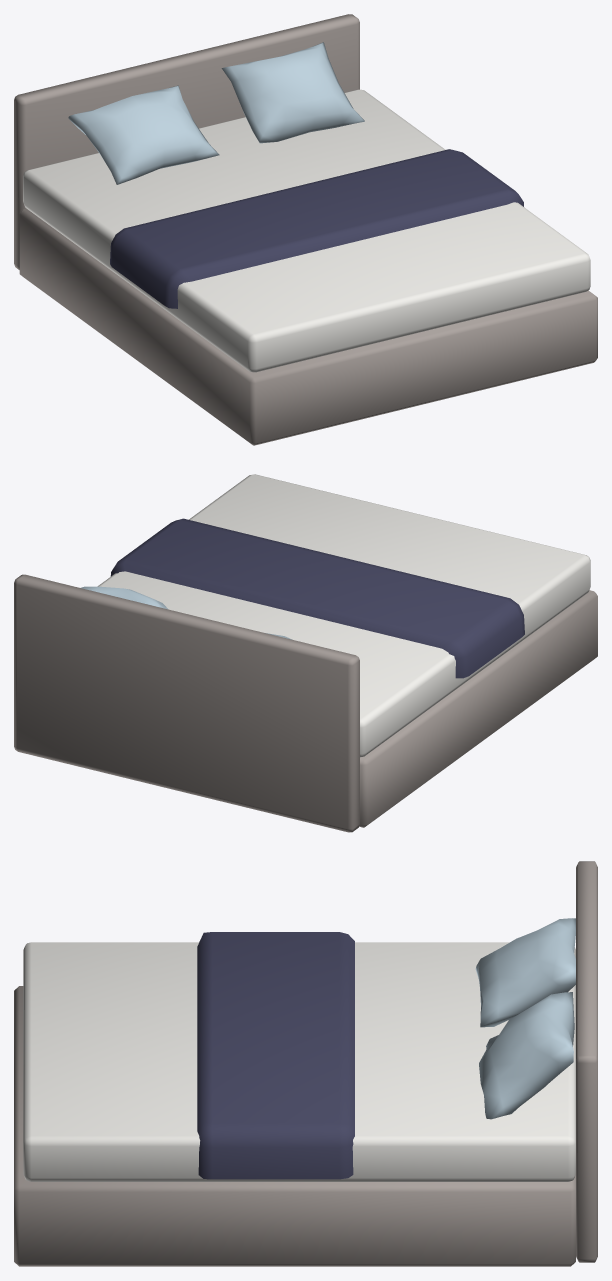
Rendered from Prop_Bed_06.fbx.
3 views of the same model, one above another, from view 1: azimuth 30°, elevation 25°; view 2: azimuth 150°, elevation 25°; view 3: azimuth 270°, elevation 25° (orthographic). The views are drawn at different scales.
Parts seen in each view (by area): view 1: Prop_Bed_06; view 2: Prop_Bed_06; view 3: Prop_Bed_06.
Part boxes in pixels (bbox=[...]): Prop_Bed_06: bbox=[14, 14, 597, 445]; Prop_Bed_06: bbox=[14, 474, 597, 832]; Prop_Bed_06: bbox=[14, 861, 597, 1266].
Size of the model in its own units: 185 by 85.85 by 218.
